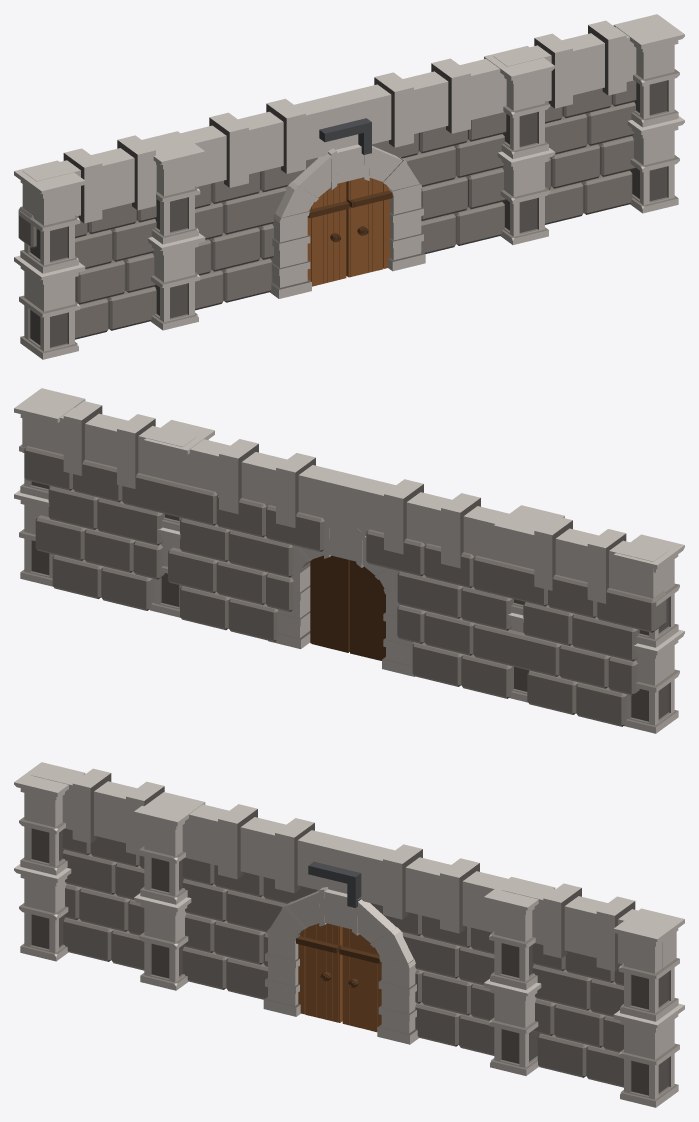
The model's file is PORTAL_NOT.fbx.
3 views of the same model, one above another, from view 1: azimuth 30°, elevation 25°; view 2: azimuth 150°, elevation 25°; view 3: azimuth 330°, elevation 25° (orthographic).
Parts seen in each view (by area): view 1: Text.004; view 2: Text.004; view 3: Text.004.
Boxes of the visible parts, x1,y1,x2,y2 form: Text.004: (14,14,684,359); Text.004: (14,388,684,733); Text.004: (14,762,684,1107).
Bounding box in the file's own units: 13135 × 3453 × 1006.
